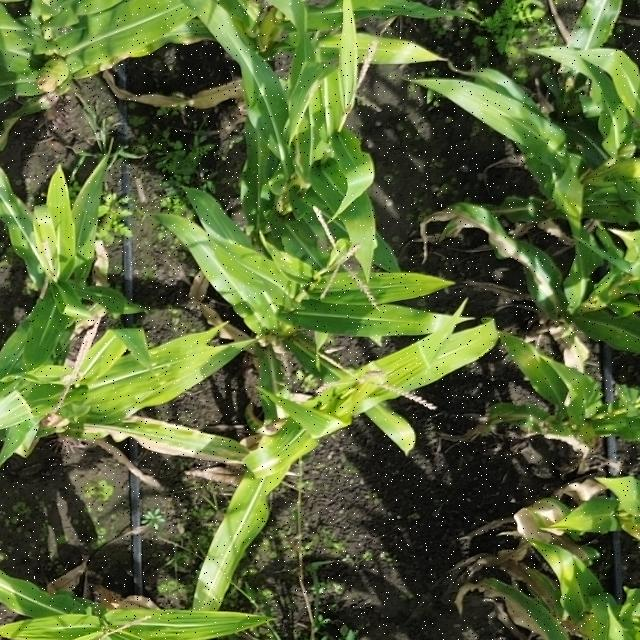northern-leaf-blight: (88, 418, 234, 455), (489, 232, 552, 288), (528, 498, 574, 528), (495, 404, 548, 428), (552, 537, 597, 563)
southern-leaf-blight: (140, 351, 202, 386), (602, 323, 639, 350)
